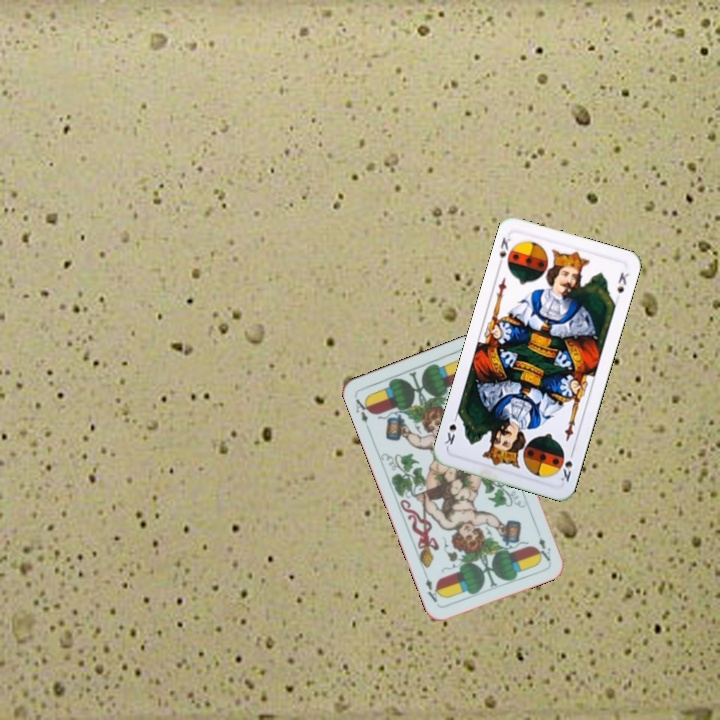EA: (351, 393, 374, 432), (534, 534, 553, 564)
SK: (555, 446, 577, 485), (494, 233, 513, 270)
